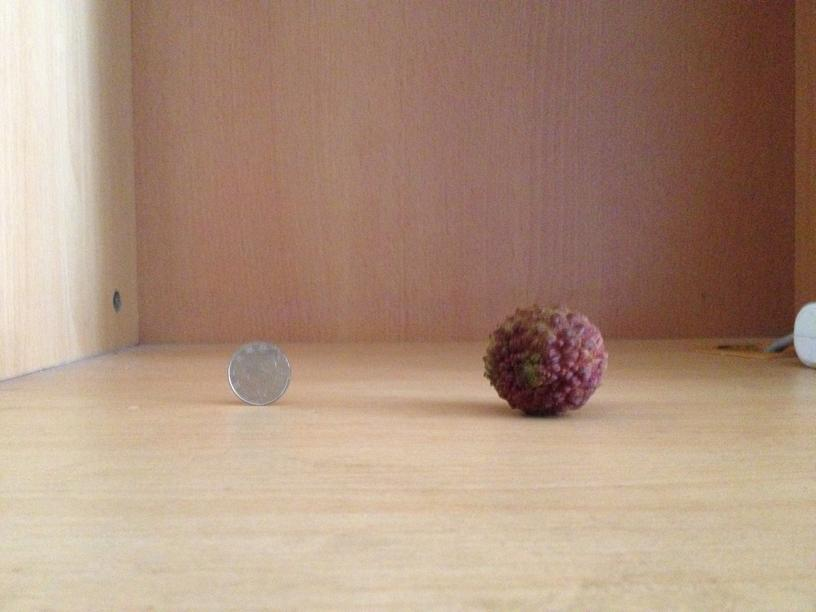coin: (226, 338, 290, 405)
litchi: (485, 301, 606, 415)
